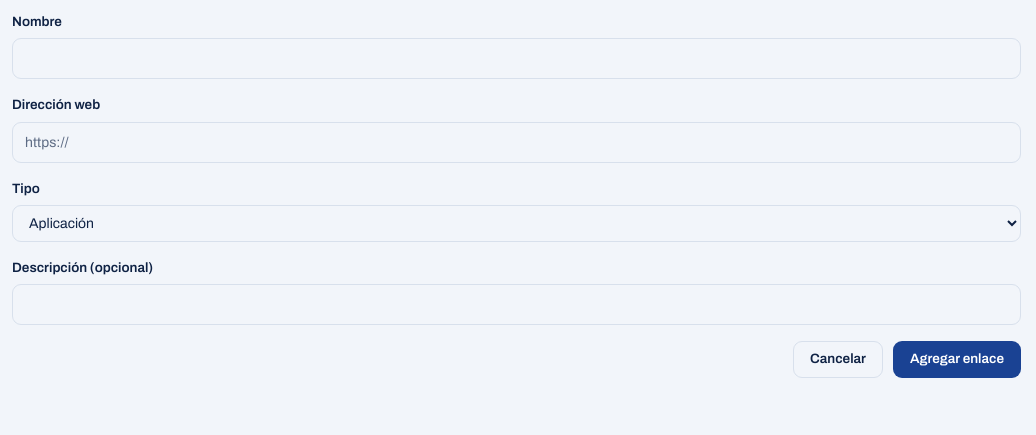
<EnlaceForm /> › stops an address the API would refuse and says so on that field
This screenshot has width=1036, height=435.
Type "Tablero de obras" into the field labelled "Nombre". click: x=516, y=59
box: top-left (12, 38), bottom-right (1021, 79)
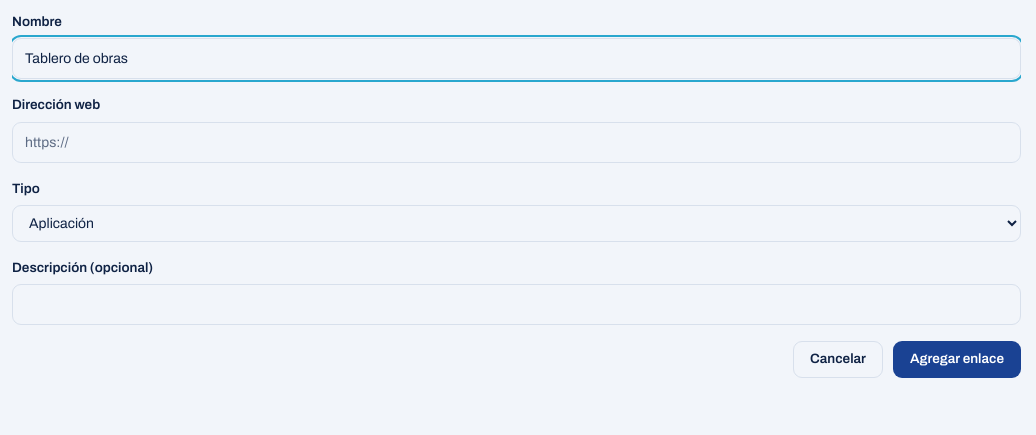
Type "javascript:alert(1)" into the field labelled "Dirección web". click: x=516, y=142
box: top-left (12, 122), bottom-right (1021, 162)
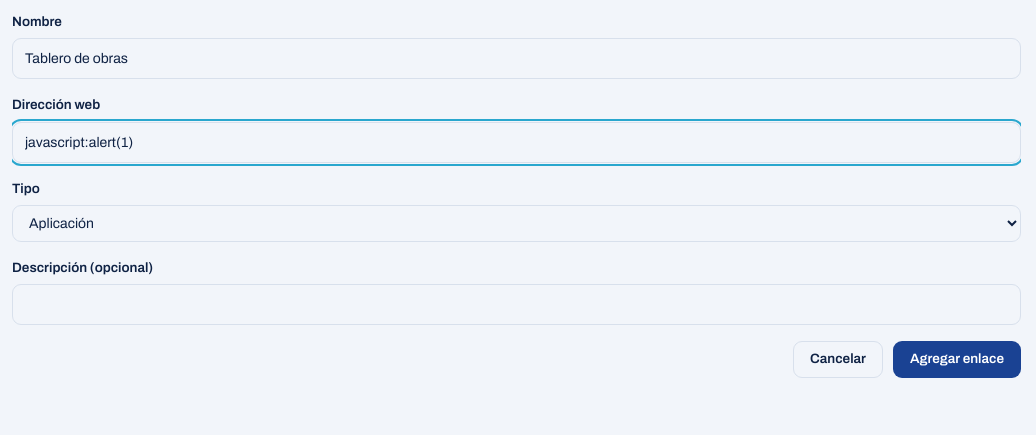
Click the button "Agregar enlace". click: x=957, y=359
box: top-left (893, 341), bottom-right (1021, 378)
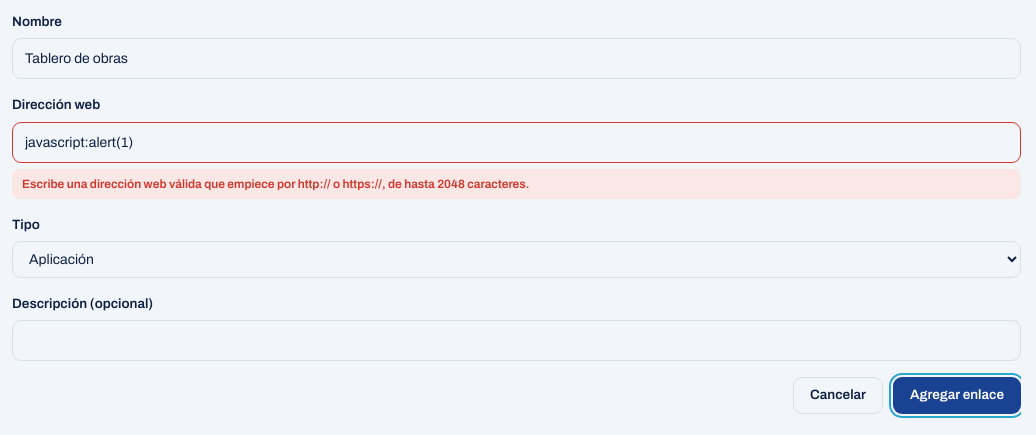
expect the text "Escribe una dirección web válida que empiece por http:// o https://, de hasta 2048 caracteres." is shown: met, box top-left (22, 176), bottom-right (530, 190)
